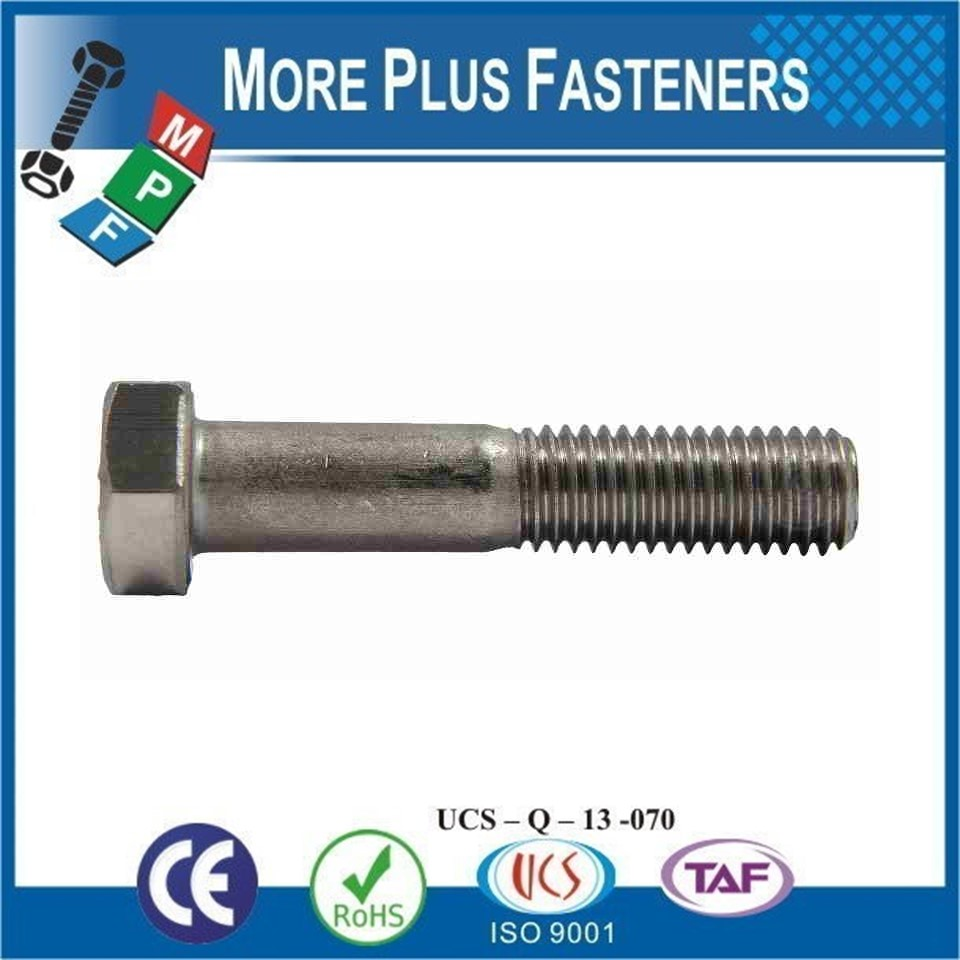screw: (98, 379, 862, 596)
